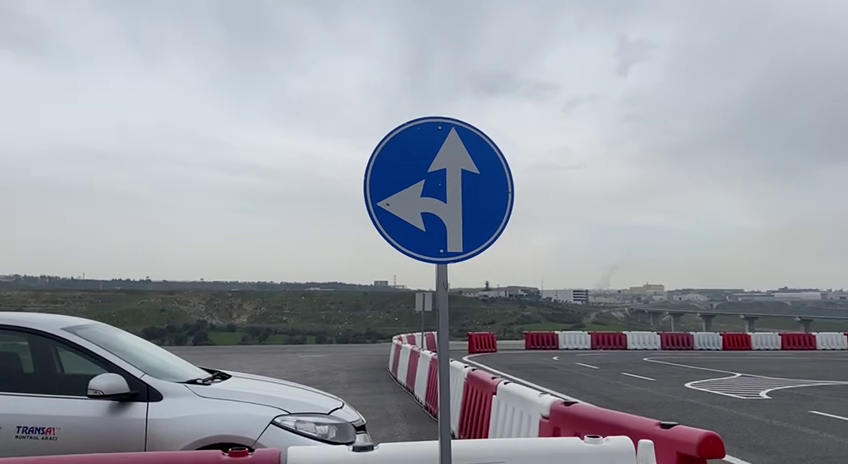forwardAndLeft: (357, 111, 521, 269)
